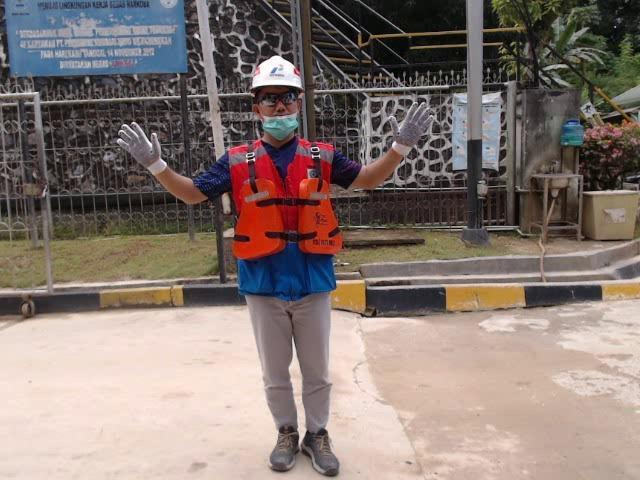vest: (231, 175, 345, 259)
